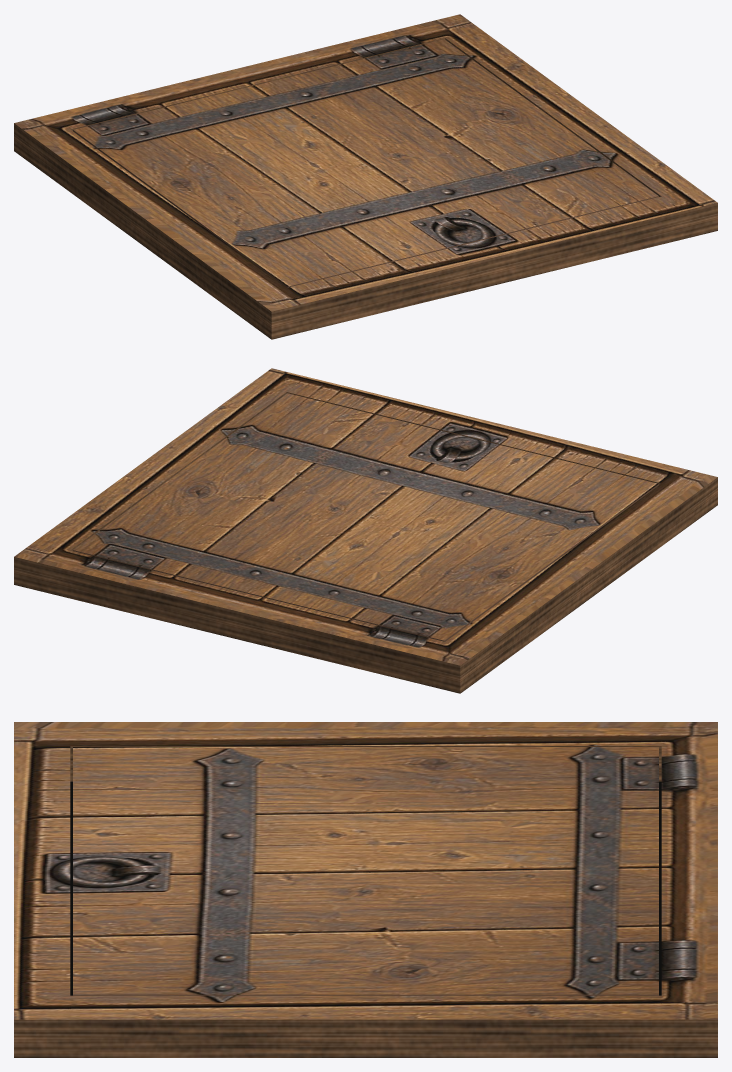
The model's file is trapdoor.glb.
The picture shows the model from 3 angles, top to bottom: view 1: azimuth 30°, elevation 25°; view 2: azimuth 150°, elevation 25°; view 3: azimuth 270°, elevation 25°; orthographic projection. The views are drawn at different scales.
Parts seen in each view (by area): view 1: leaf, trapdoor; view 2: leaf, trapdoor; view 3: leaf, trapdoor.
Part boxes in pixels (bbox=[...]): leaf: bbox=[73, 39, 658, 287]; trapdoor: bbox=[14, 14, 717, 339]; leaf: bbox=[73, 393, 658, 641]; trapdoor: bbox=[14, 368, 717, 693]; leaf: bbox=[73, 747, 658, 995]; trapdoor: bbox=[14, 722, 717, 1057].
Bounding box in the file's own units: 1 × 0.06 × 1.
Materials: 3 (2 with a texture image).
